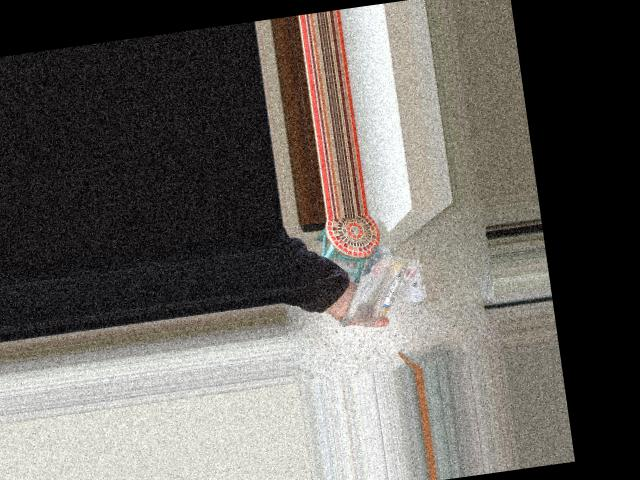cheese: (321, 216, 439, 338)
